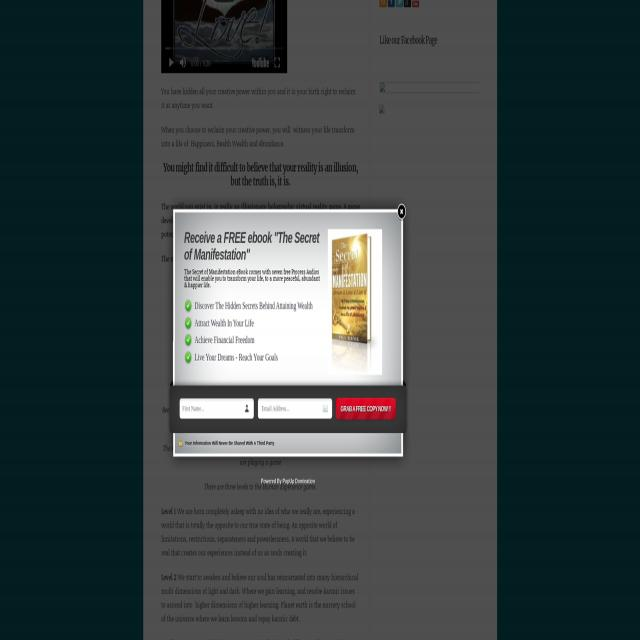button: (328, 229, 382, 375), (335, 396, 396, 422), (398, 202, 407, 220)
field: (180, 397, 254, 419), (258, 397, 332, 419)
